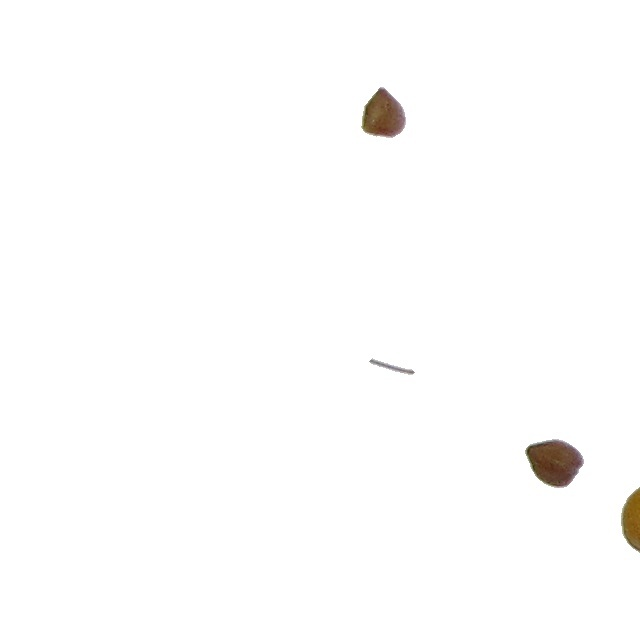buckwheat: (524, 438, 585, 489), (360, 86, 407, 139)
dill: (368, 357, 416, 376)
mais: (620, 477, 640, 568)
